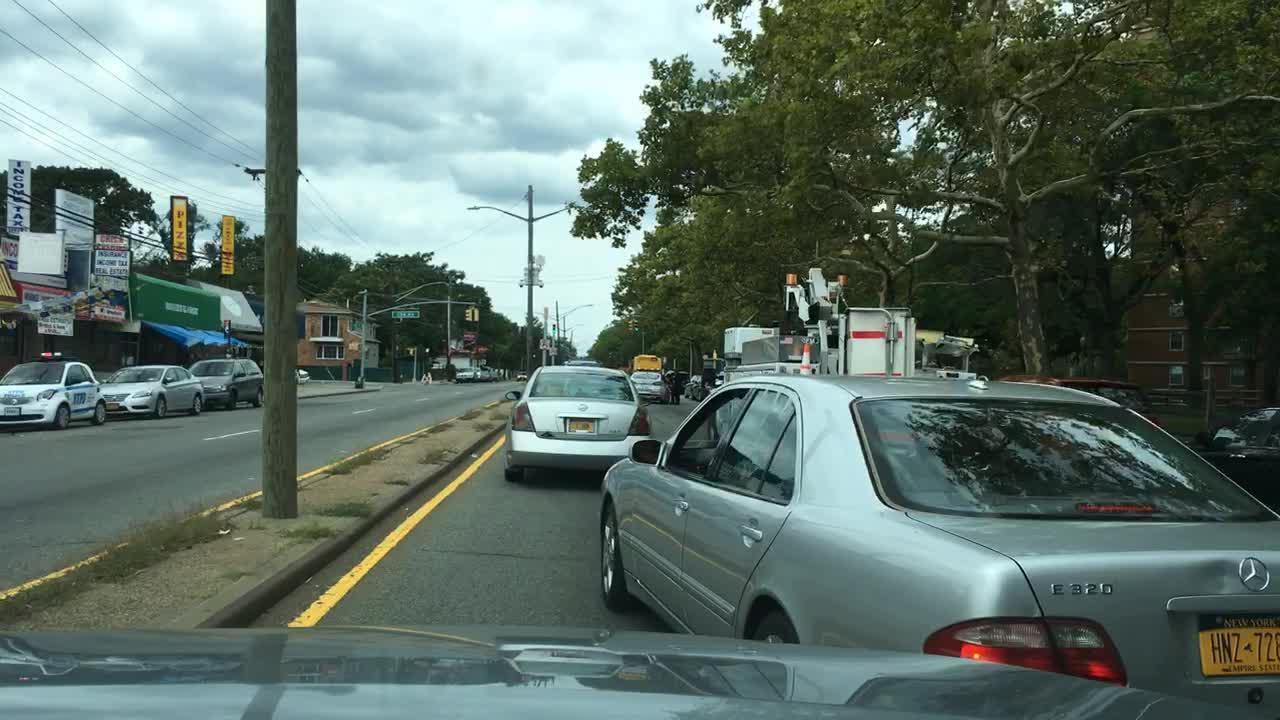Mercedes: (1231, 541, 1279, 598)
